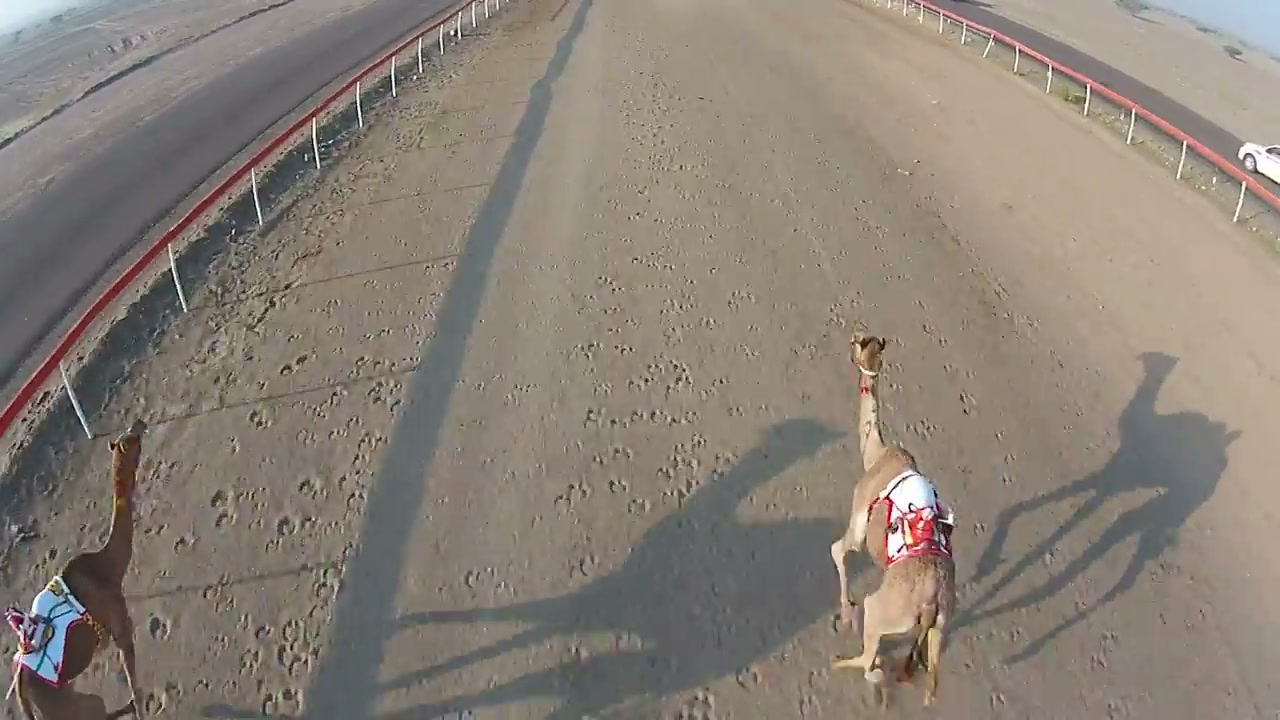animal_footprint: (162, 316, 391, 717)
